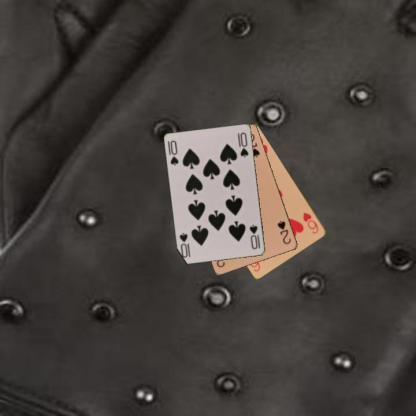10s: (247, 222, 262, 251), (168, 138, 180, 167)
2s: (275, 218, 292, 245)
6h: (301, 210, 320, 235)
